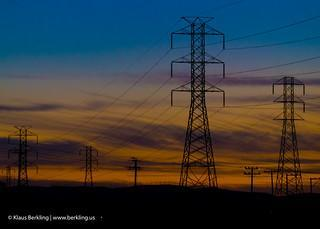power_tower: (166, 12, 229, 199), (266, 71, 308, 203), (3, 123, 46, 196), (77, 141, 102, 195)
